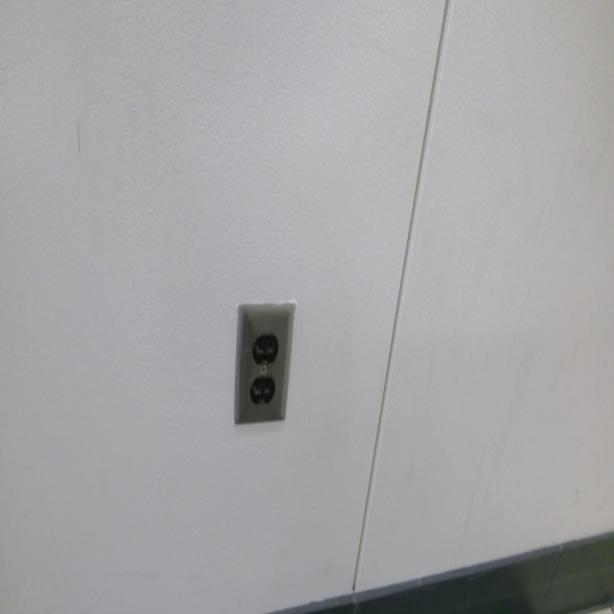typeb: (254, 332, 276, 367), (254, 378, 272, 407)
